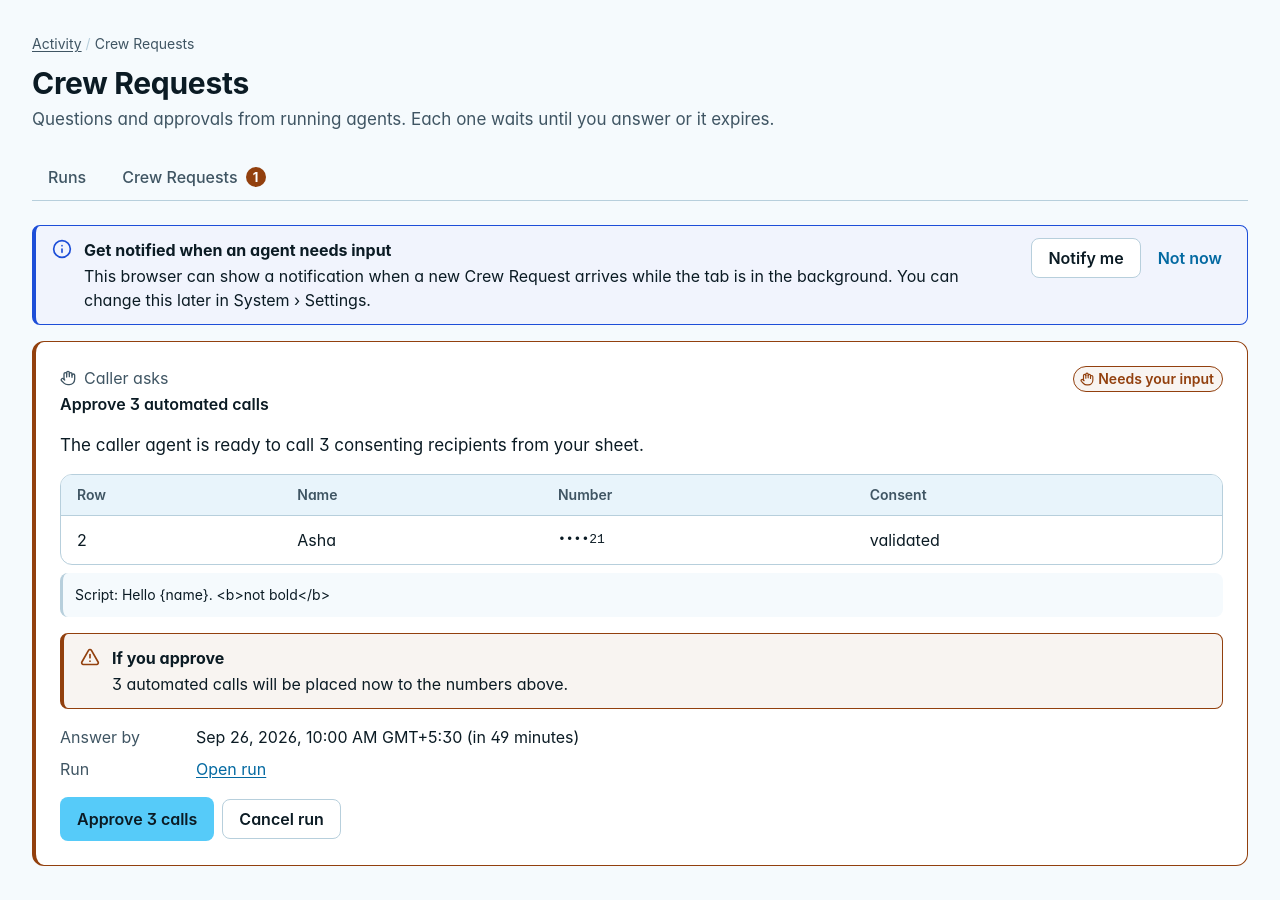
Test: Crew Requests: inline notification prompt › offers notifications while requests are pending and the browser has not been asked
The width and height of the screenshot is (1280, 900).
Expected: the text "Get notified when an agent needs input" is shown, 84,240 -> 392,260
Click the button "Notify me".
click(1086, 258)  # box 1031,238 -> 1141,278
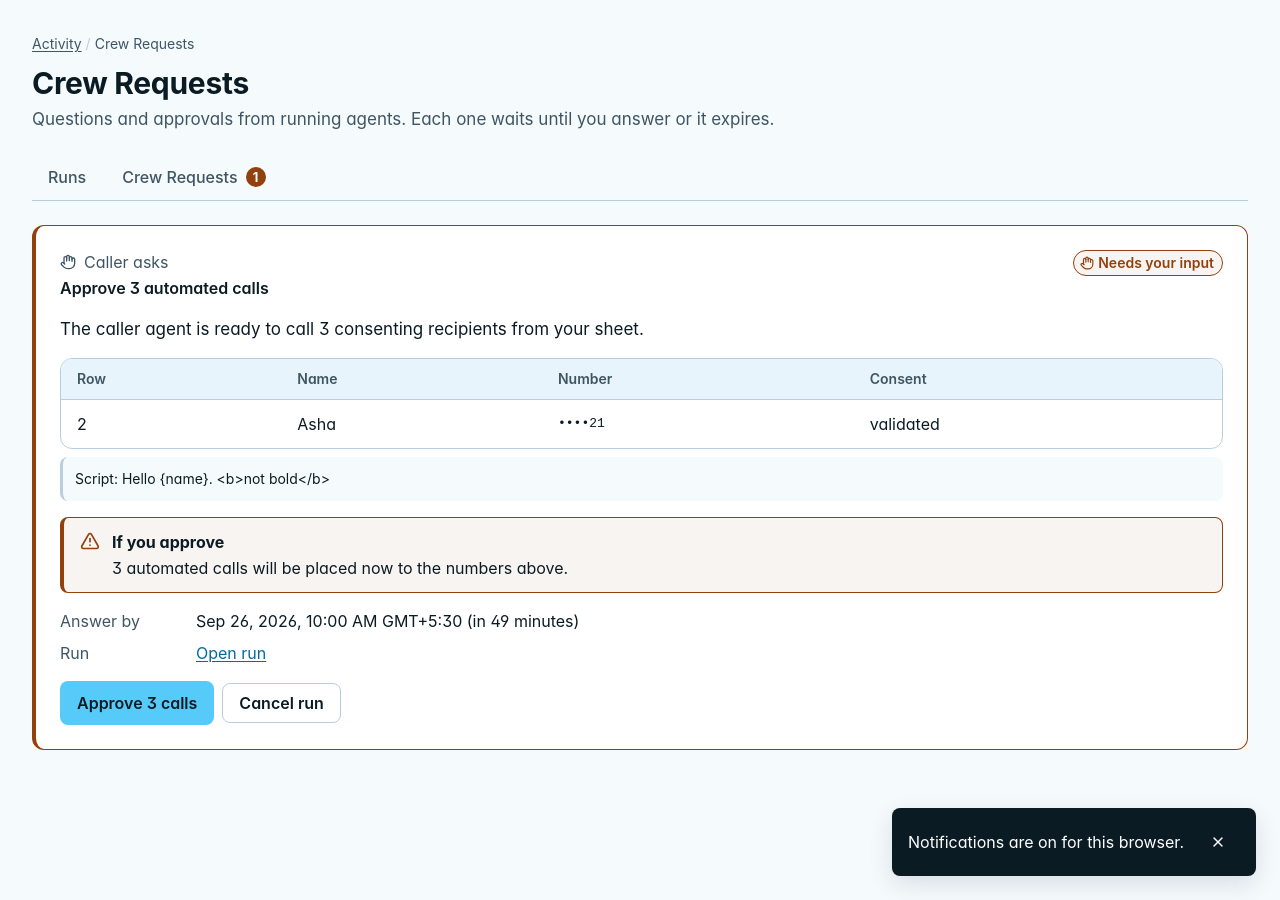
Now the text "Get notified when an agent needs input" is gone
